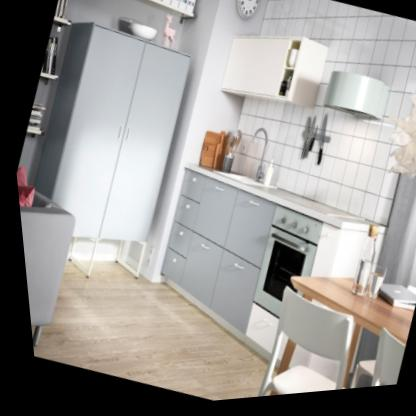Chair: (234, 280, 385, 401)
